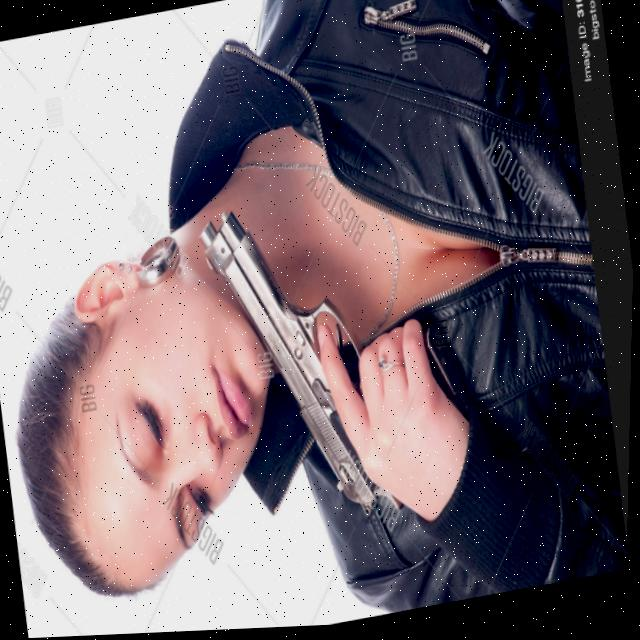pistol: (190, 188, 390, 548)
